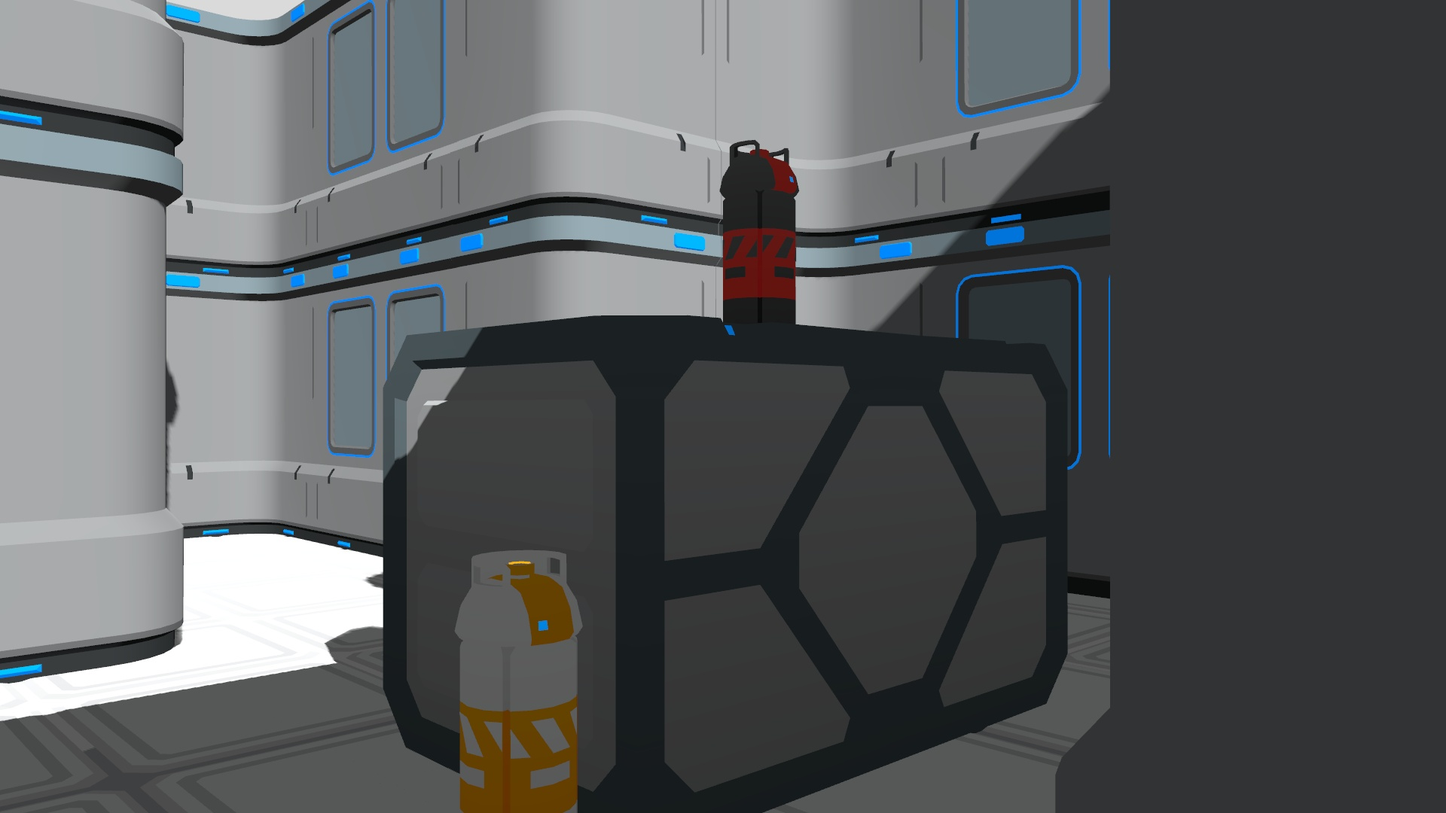red_barrel: (716, 135, 806, 334)
yellow_barrel: (455, 544, 585, 813)
